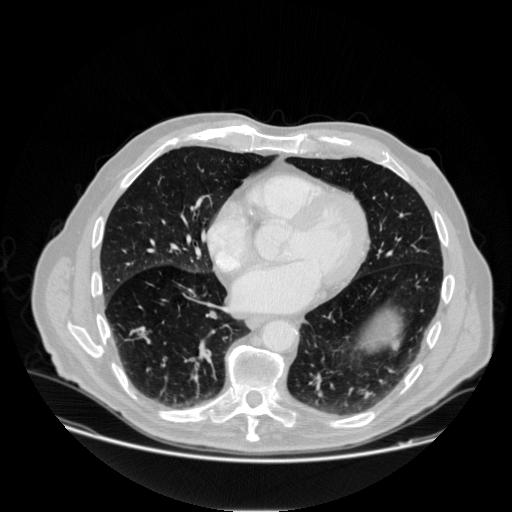nodule: (390, 340, 402, 352)
